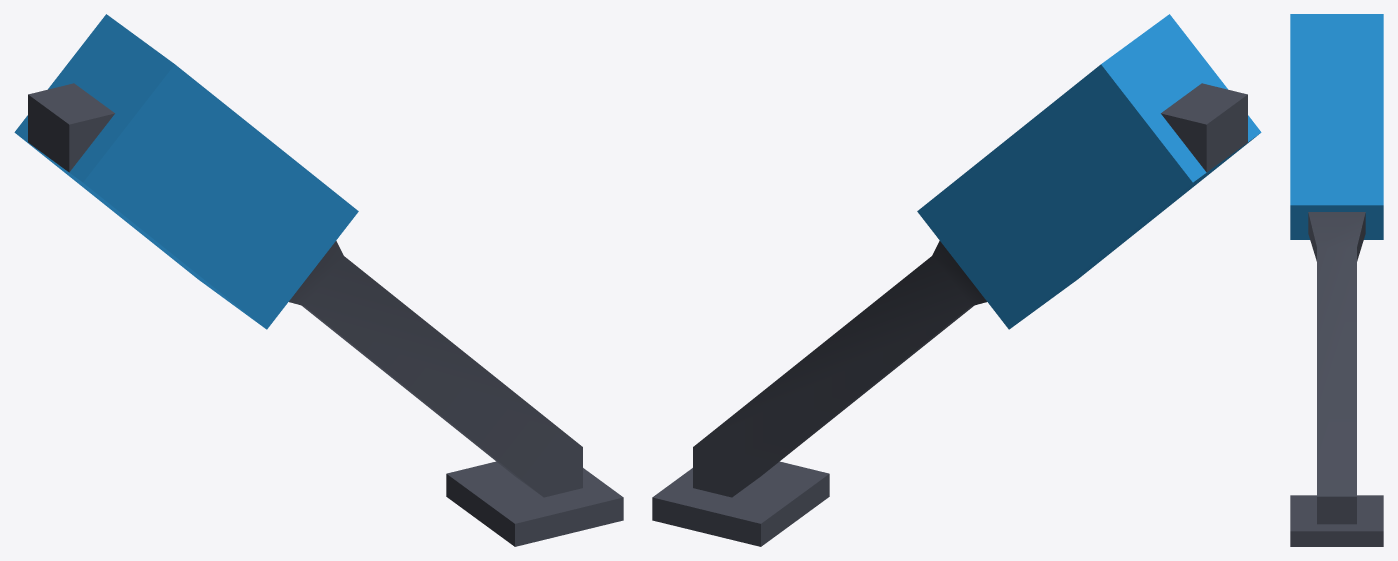
The model's file is BlueLever.fbx.
3 renders of one model, left to right at view 1: azimuth 30°, elevation 25°; view 2: azimuth 150°, elevation 25°; view 3: azimuth 270°, elevation 25°, orthographic. The views are drawn at different scales.
Parts seen in each view (by area): view 1: landing_telescope%_0; view 2: landing_telescope%_0; view 3: landing_telescope%_0.
Boxes of the visible parts, x1,y1,x2,y2 form: landing_telescope%_0: (14, 14, 623, 546); landing_telescope%_0: (652, 14, 1261, 546); landing_telescope%_0: (1290, 14, 1383, 546).
Size of the model in its own units: 10 by 10 by 2.2.
